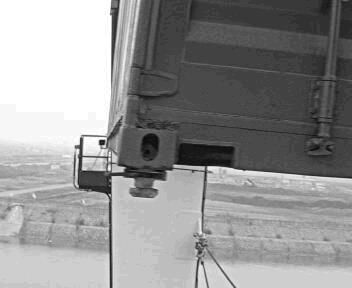twist_lock_1: (116, 163, 172, 202)
